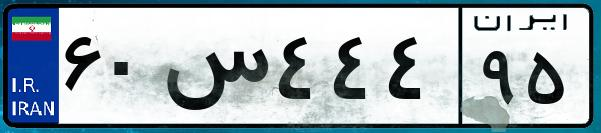0: (110, 28, 158, 98)
4: (270, 28, 330, 110), (385, 28, 445, 110), (330, 28, 385, 110)
5: (525, 38, 570, 115)
6: (57, 26, 110, 100)
9: (475, 38, 525, 113)
س: (158, 20, 270, 120)
